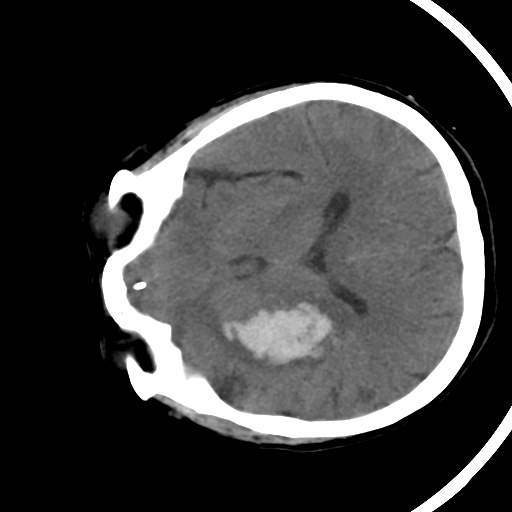a: (184, 278, 363, 380)
